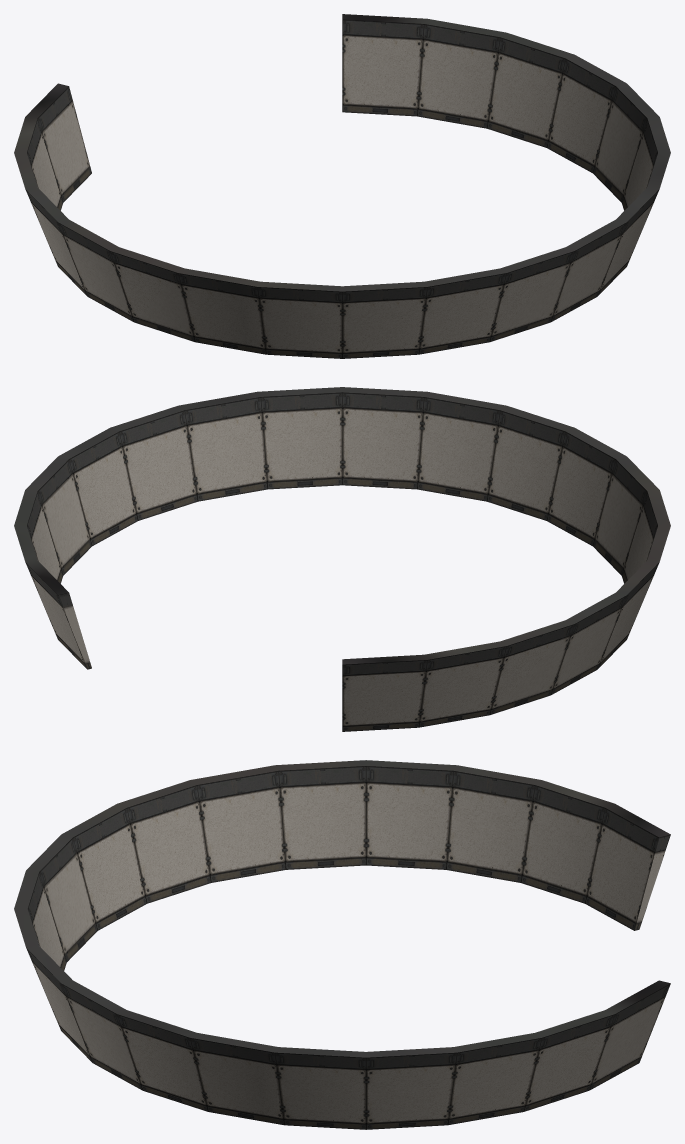
Rendered from huanxing.FBX.
3 renders of one model, top to bottom at view 1: azimuth 30°, elevation 25°; view 2: azimuth 150°, elevation 25°; view 3: azimuth 270°, elevation 25°, orthographic. The views are drawn at different scales.
Visible parts, largest first — view 1: Cone001; view 2: Cone001; view 3: Cone001.
Boxes of the visible parts, x1,y1,x2,y2 form: Cone001: [14, 14, 670, 358]; Cone001: [14, 387, 670, 731]; Cone001: [14, 760, 670, 1129].
Bounding box in the file's own units: 84.67 × 11.61 × 79.
